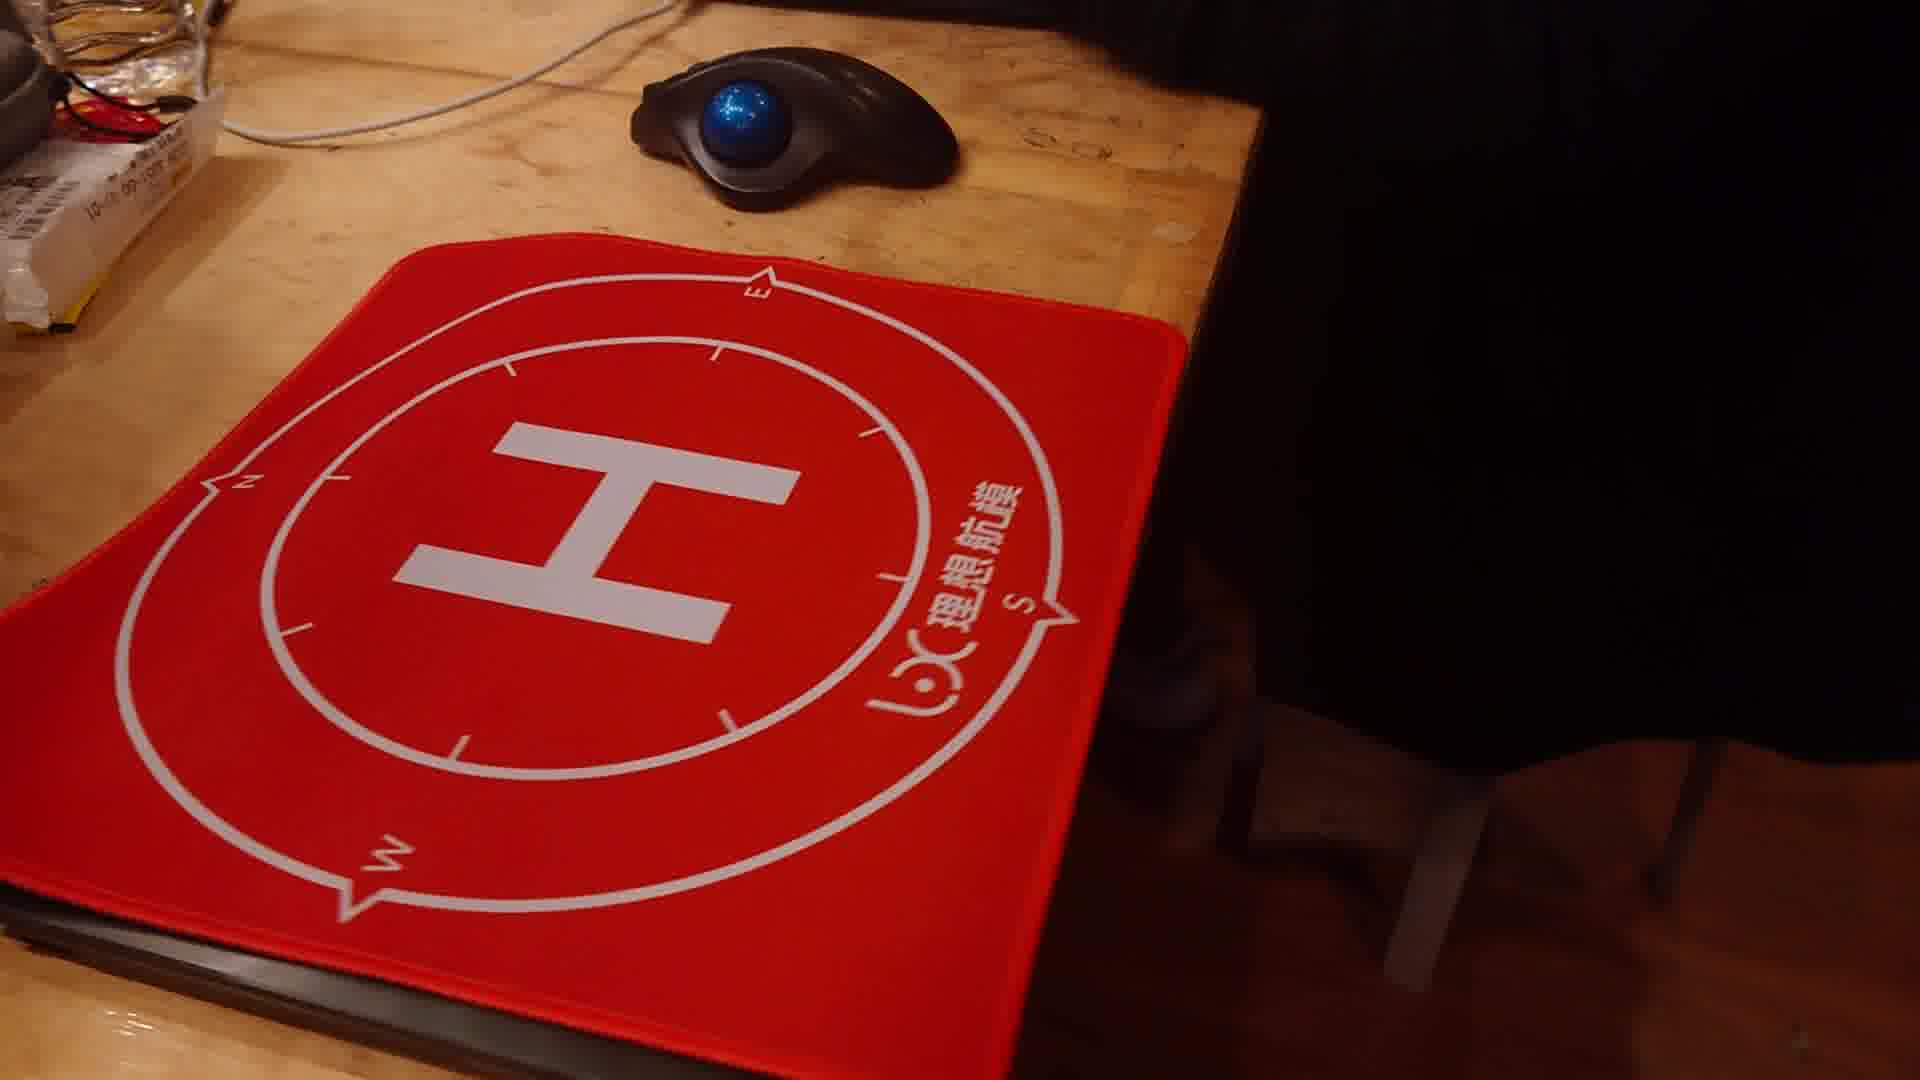H: (386, 417, 803, 651)
